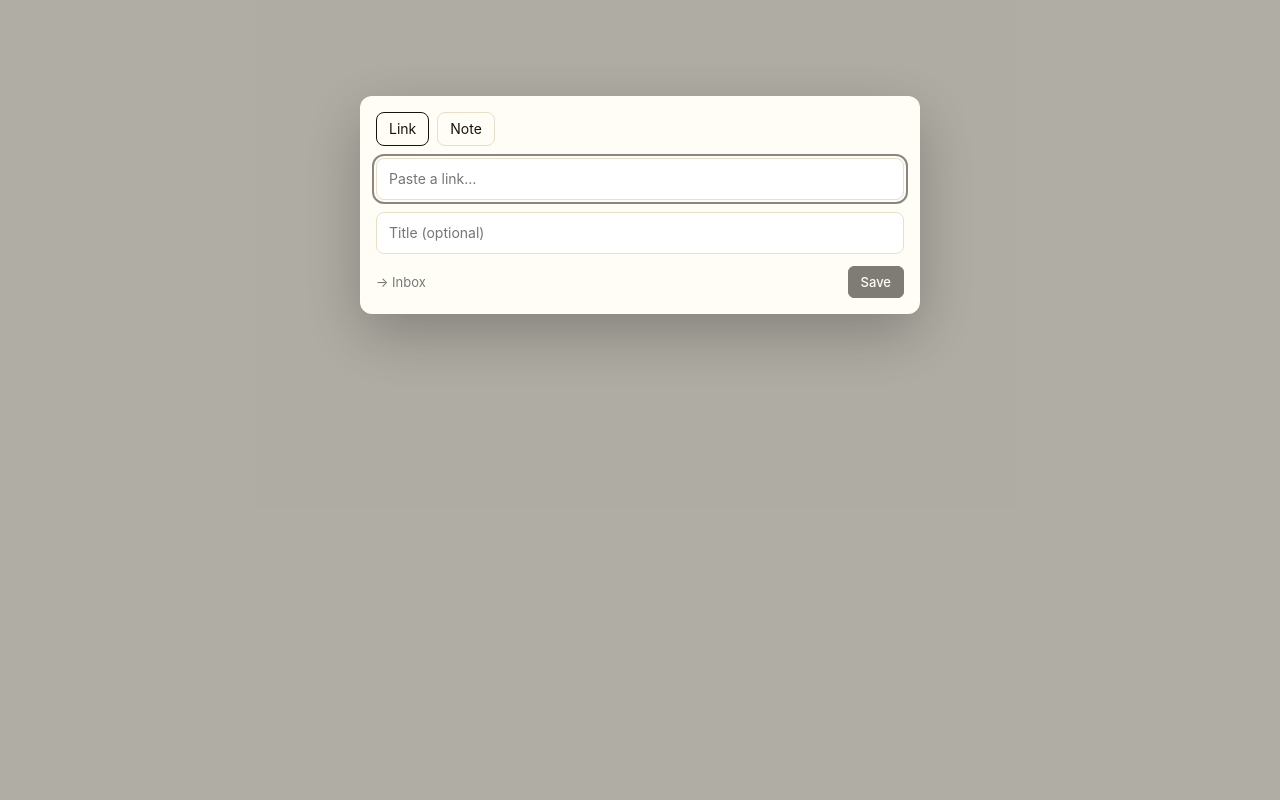
Test case: CaptureSheet › surfaces an error and keeps the sheet open when online and the request fails
The image size is (1280, 800).
Type "https://arxiv.org/pdf/2606.24775" into the field with placeholder "Paste a link…" at (640, 179), box [376,158,904,200]
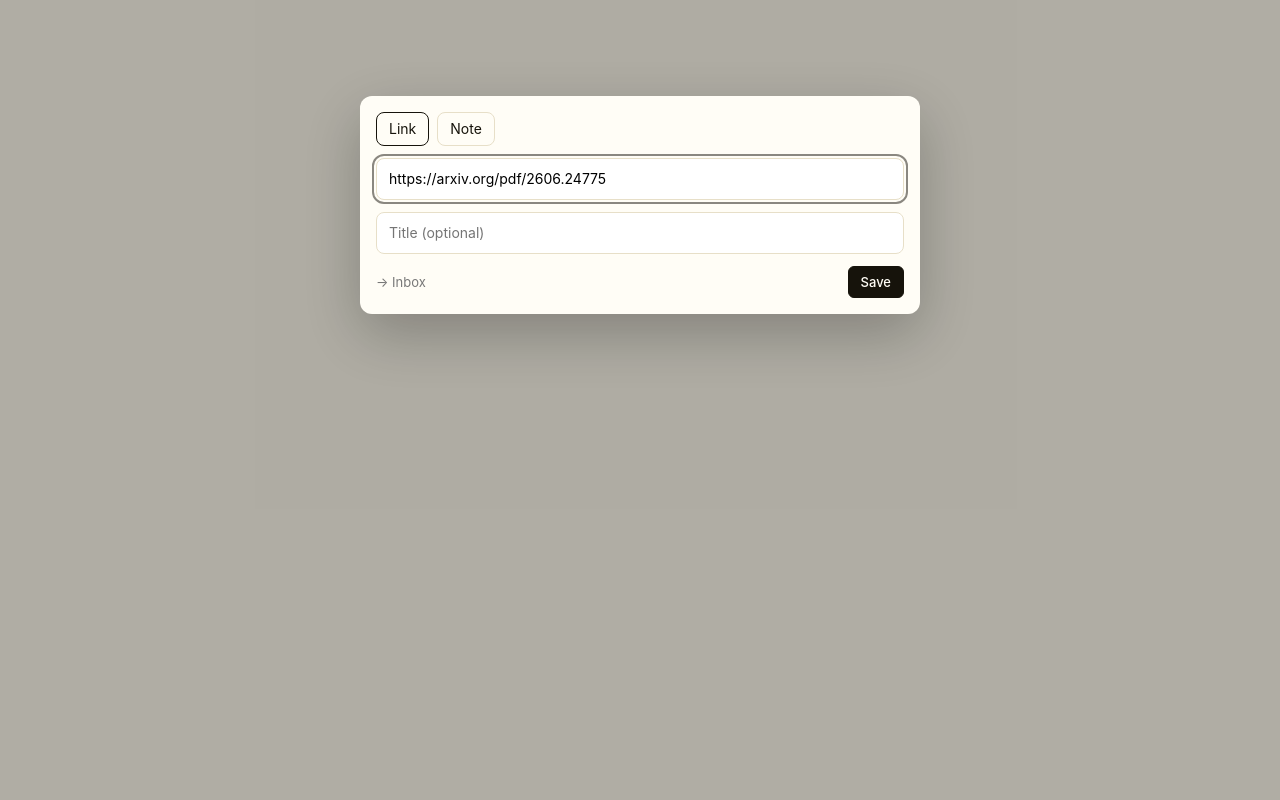
Click the button "Save" at (876, 282), box [848,266,904,298]
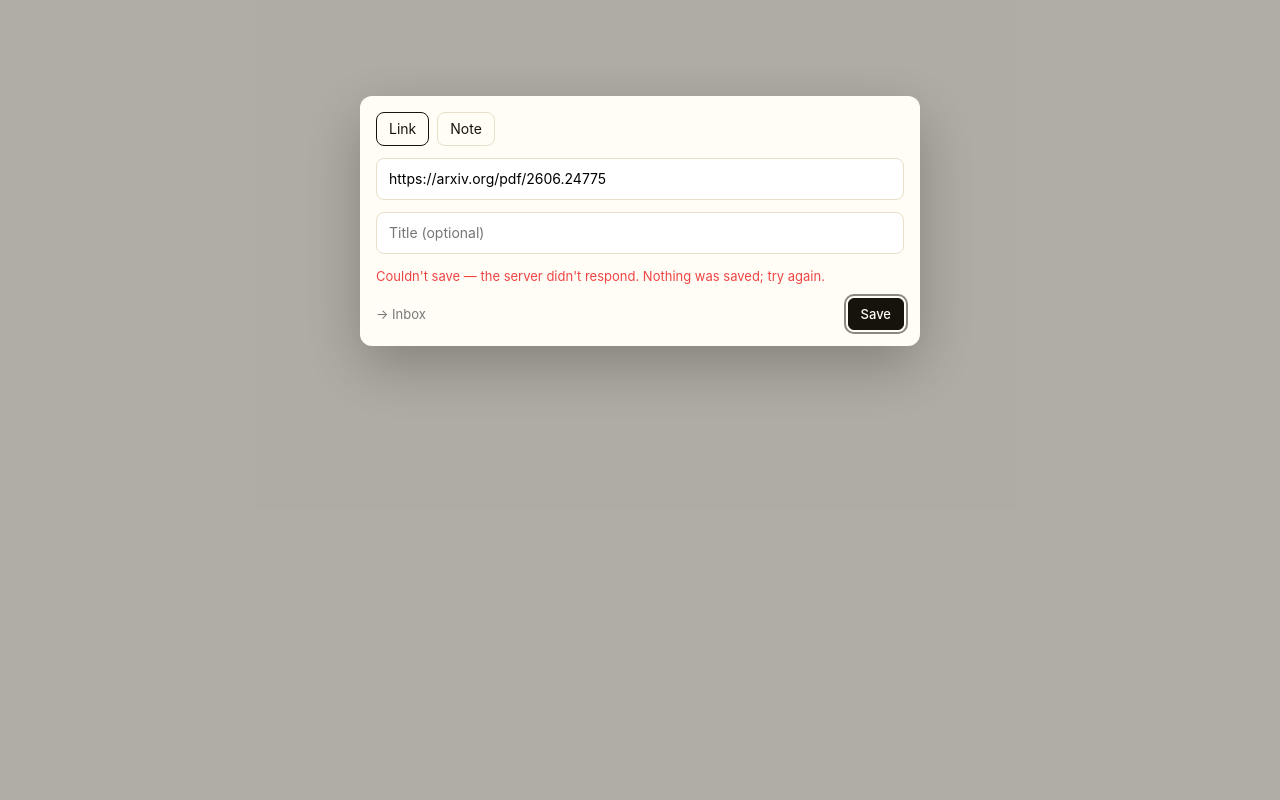
Expected: the message "Couldn't save — the server didn't respond. Nothing was saved; try again." is shown, [376,266,904,286]
